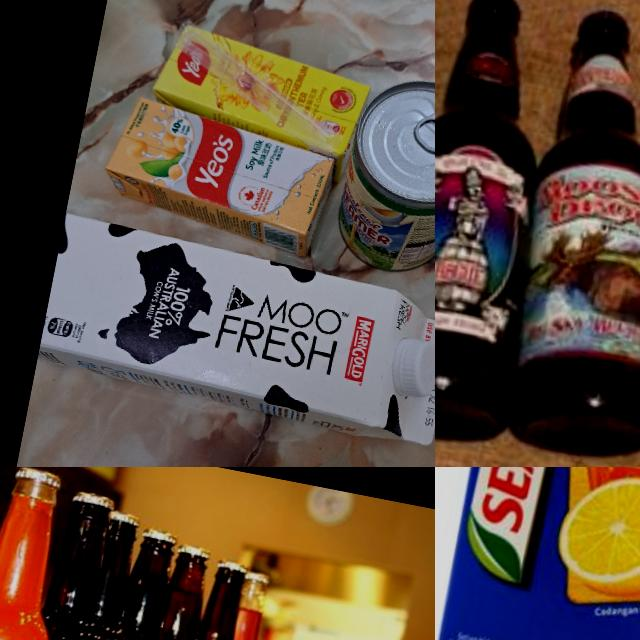aba de lata: (409, 98, 435, 159)
caixinha: (33, 213, 435, 451), (95, 92, 342, 260), (139, 18, 376, 186), (435, 467, 640, 640)
garrafa de vidro: (435, 0, 593, 454), (487, 1, 640, 467), (0, 487, 131, 640), (48, 510, 159, 640), (0, 467, 79, 640), (85, 526, 188, 640), (122, 543, 223, 640), (163, 556, 262, 640), (198, 570, 281, 640)
lata: (328, 69, 435, 289)
tampa plástica: (393, 337, 435, 401)
